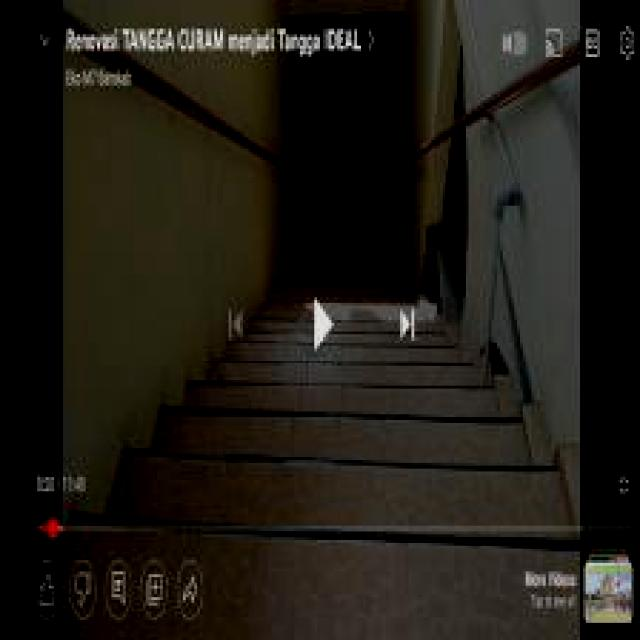downstair: (113, 338, 570, 533)
